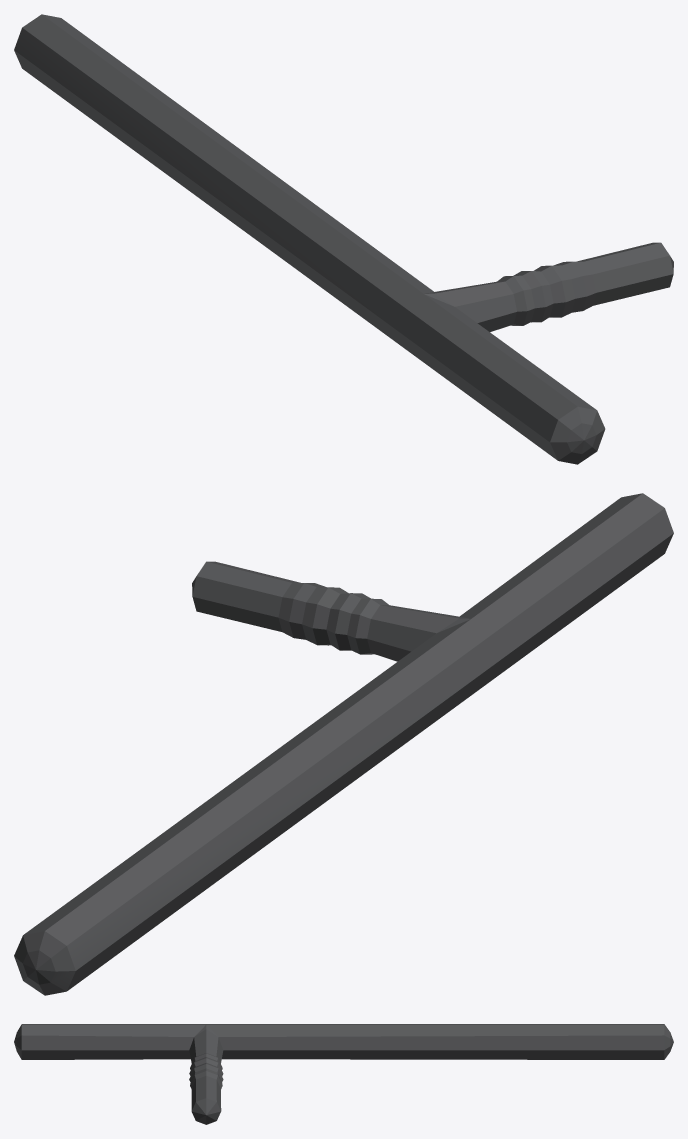
Rendered from scene_Jj066uLt7z.glb.
The picture shows the model from 3 angles, top to bottom: view 1: azimuth 30°, elevation 25°; view 2: azimuth 150°, elevation 25°; view 3: azimuth 270°, elevation 25°; orthographic projection. The views are drawn at different scales.
Parts seen in each view (by area): view 1: Police_baton; view 2: Police_baton; view 3: Police_baton.
Part boxes in pixels (x1=…): Police_baton: x1=14, y1=14, x2=673, y2=464; Police_baton: x1=14, y1=493, x2=673, y2=995; Police_baton: x1=14, y1=1024, x2=673, y2=1124.
Bounding box in the file's own units: 0.2146 × 0.0428 × 0.7362.
Materials: 1 (1 with a texture image).
